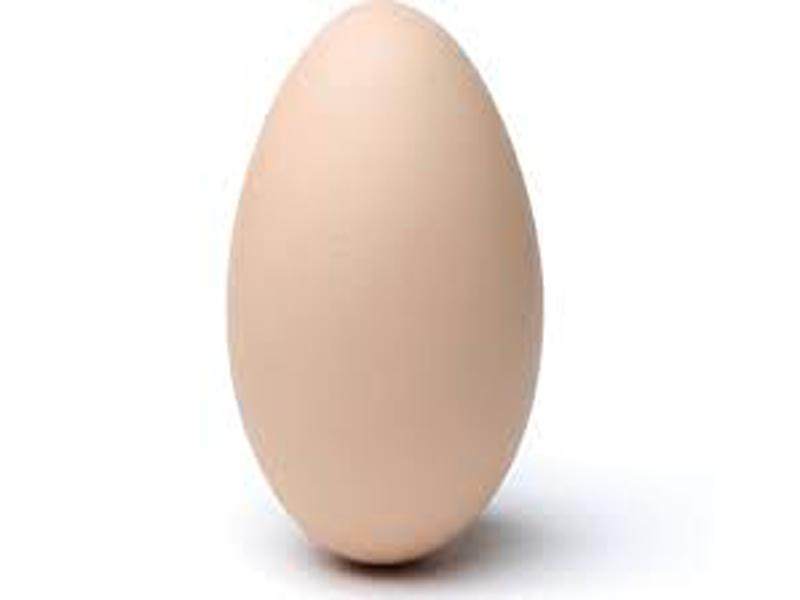Eggs: (226, 4, 542, 571)
